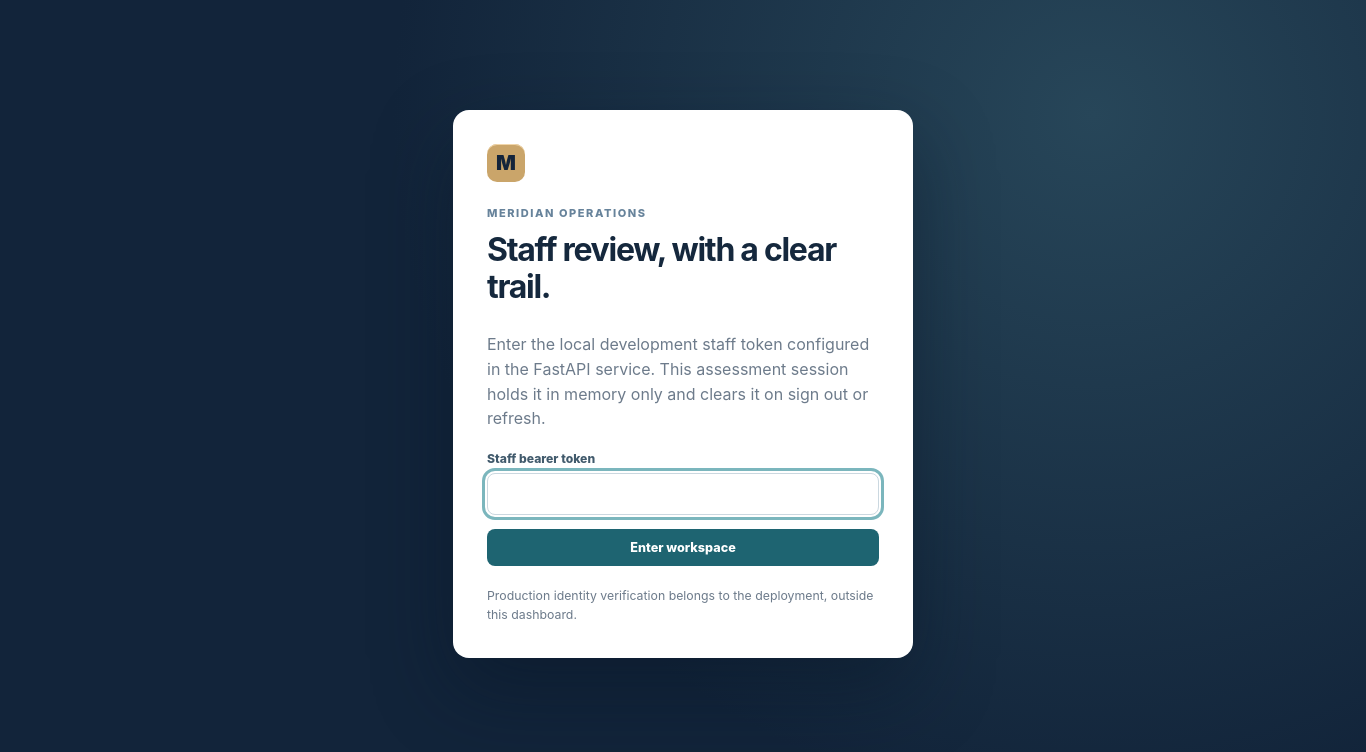
Scenario: register and upload › shows page-scoped counts, pagination, and review queue without claiming posting readiness
The width and height of the screenshot is (1366, 752).
In the password field labelled "Staff bearer token": (683, 494) [487,473,879,515], type "valid-token"
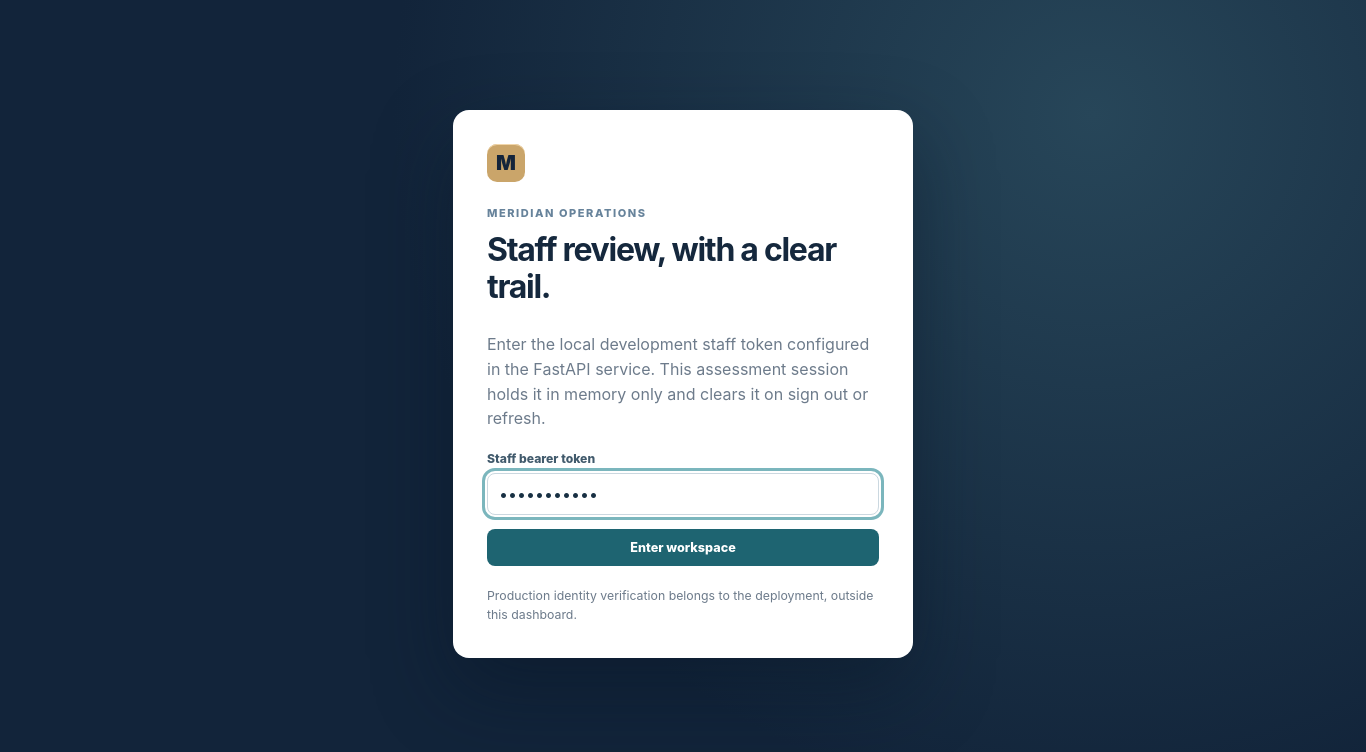
Click the button "Enter workspace": (683, 548) [487,529,879,566]
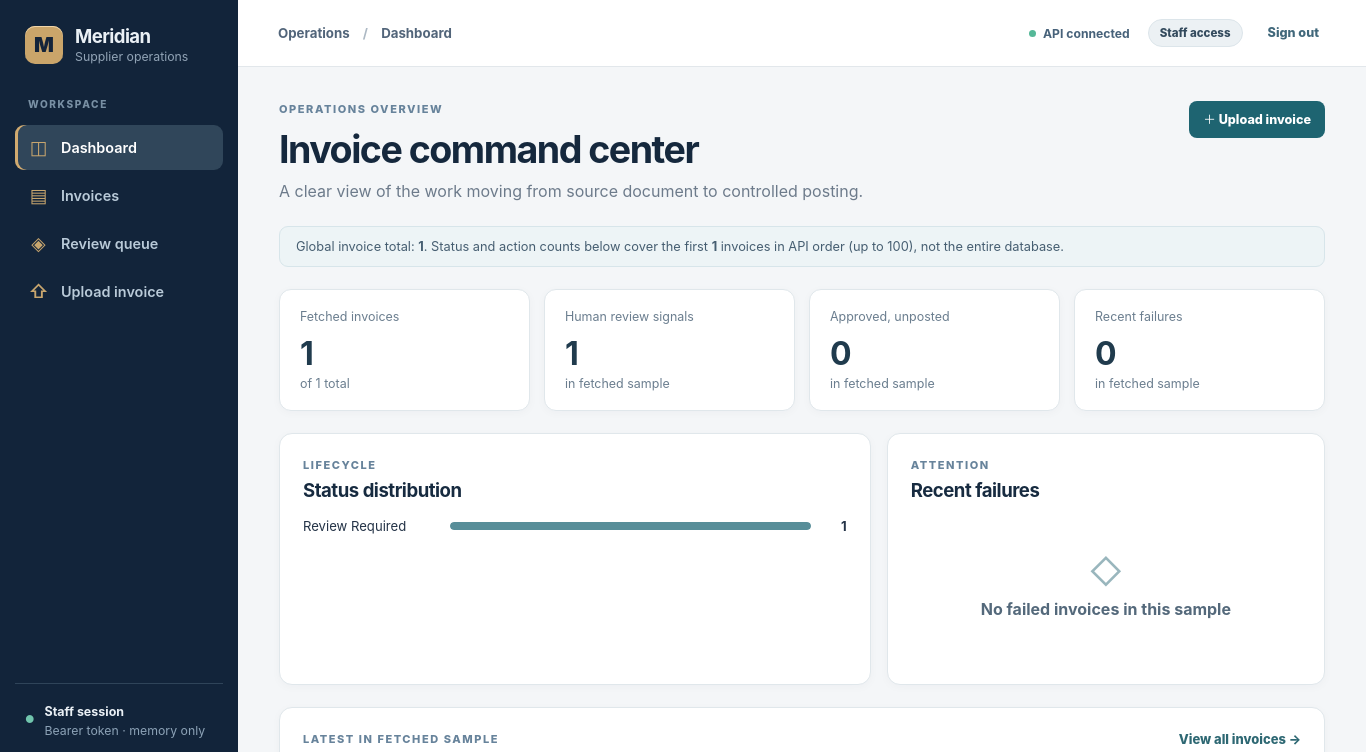
Expected: the heading "Invoice command center" is shown, [279,127,698,172]
Expected: the text "Global invoice total:" is shown, [296,239,418,254]
Click the link "▤ Invoices": (74, 195) [30,184,119,207]
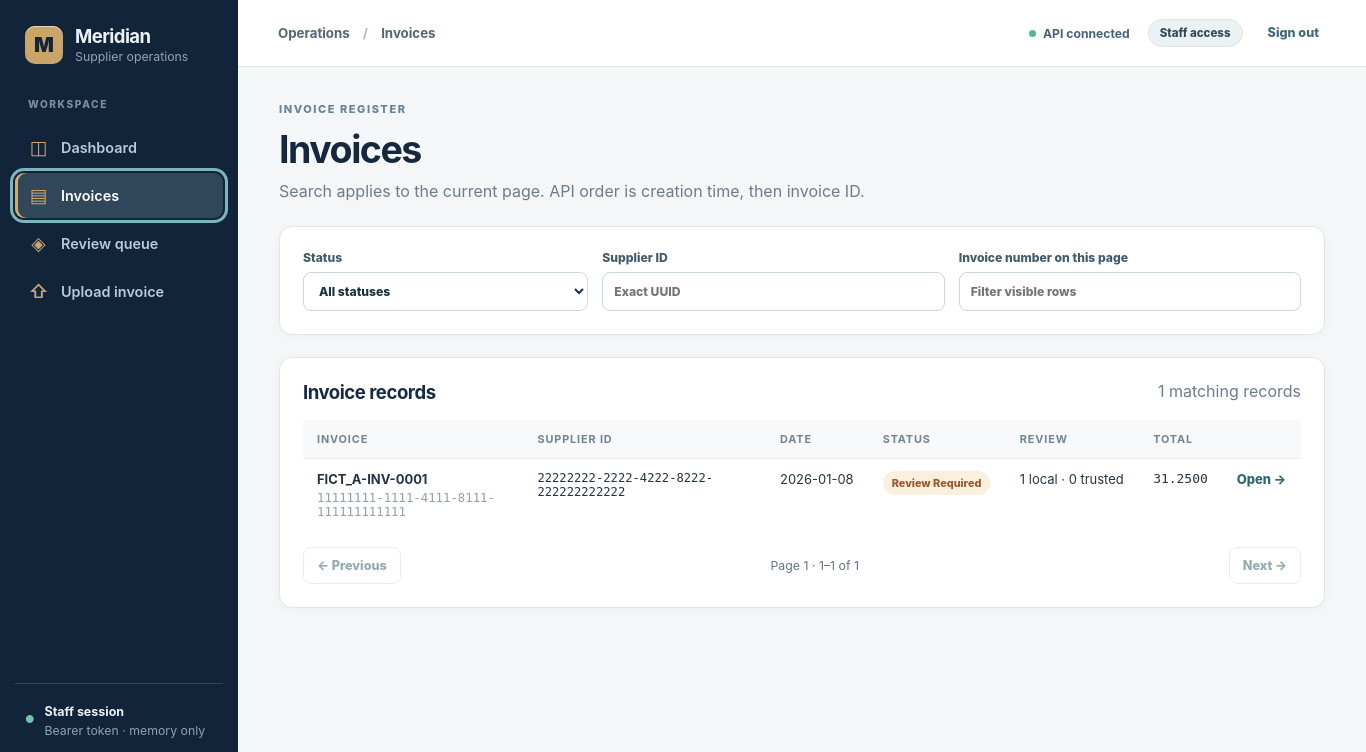
Expected: the heading "Invoice records" is shown, [303,381,436,403]
Expected: the text "1 matching records" is shown, [1158,381,1301,401]
Expected: the button "Next →" is disabled, [1229,547,1301,584]
Click the link "◈ Review queue": (95, 243) [31,232,158,255]
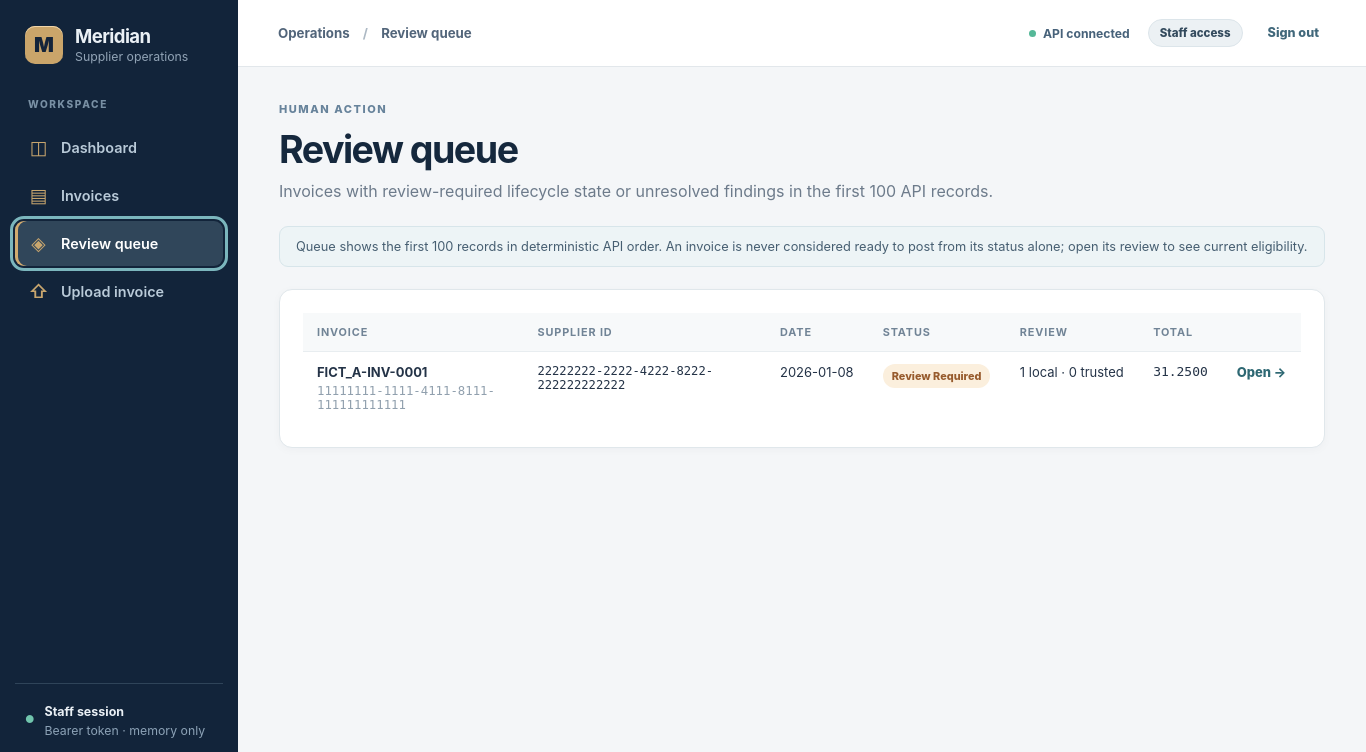
Expected: the text "review required" is shown, [883,364,990,388]
Expected: the text "first 100 API records" is shown, [279,181,993,201]
